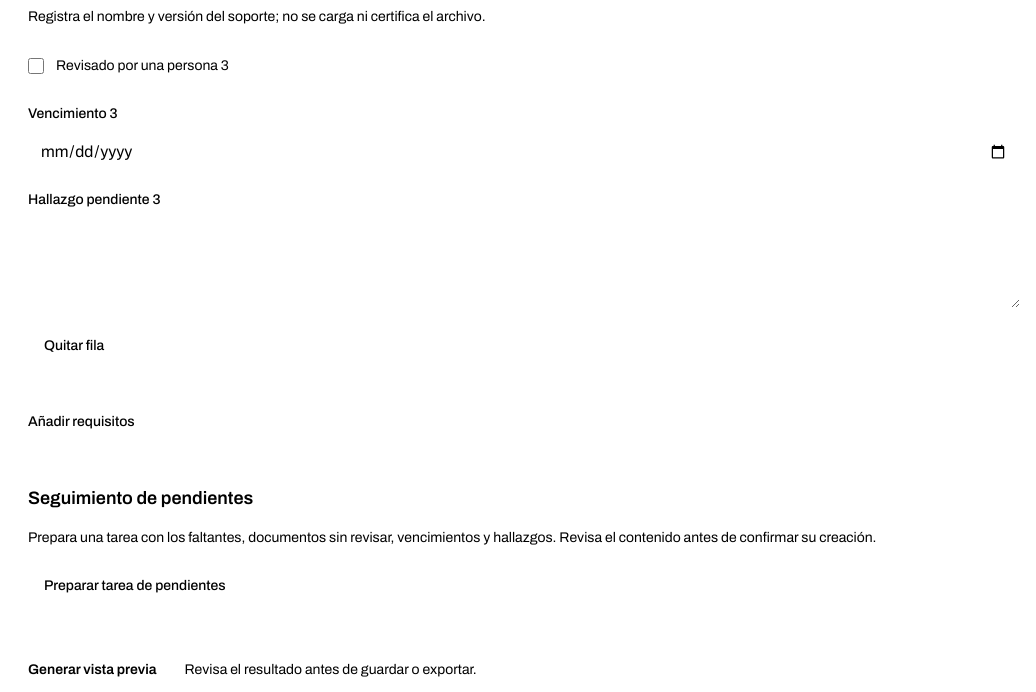
Test: revisor exige confirmación y crea una tarea con vínculos actuales del expediente
(page scrolled)
Click the button "Preparar tarea de pendientes" at (135, 586), box [28,564,242,608]
(page scrolled)
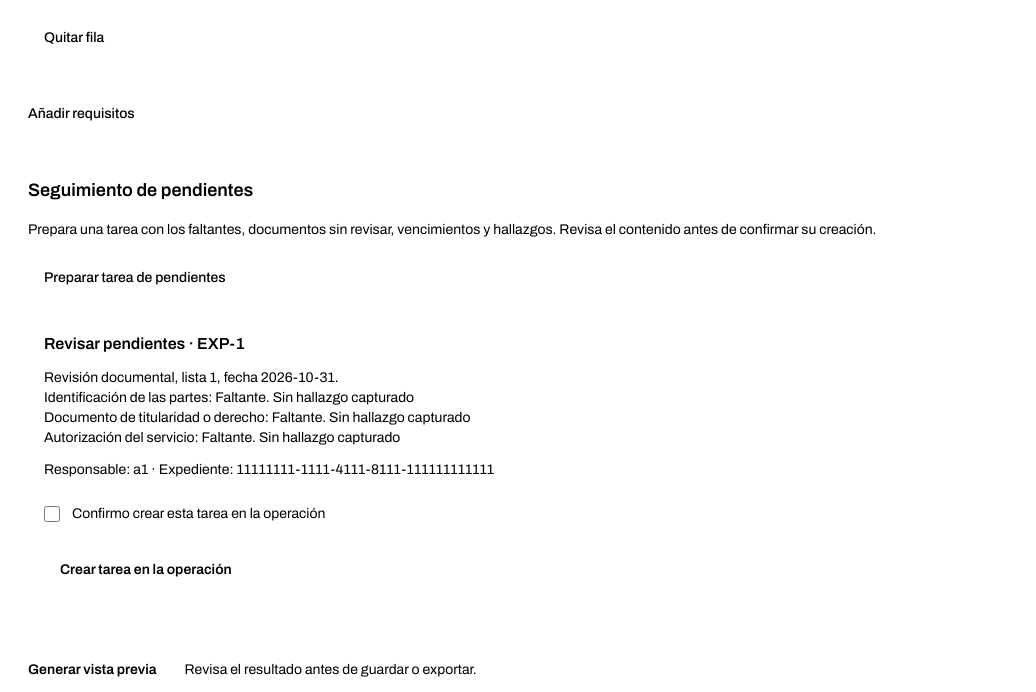
Now the button "Crear tarea en la operación" is disabled, box [44,548,248,592]
Click the checkbox labelled "Confirmo crear esta tarea en la operación" at (52, 514), box [44,506,60,522]
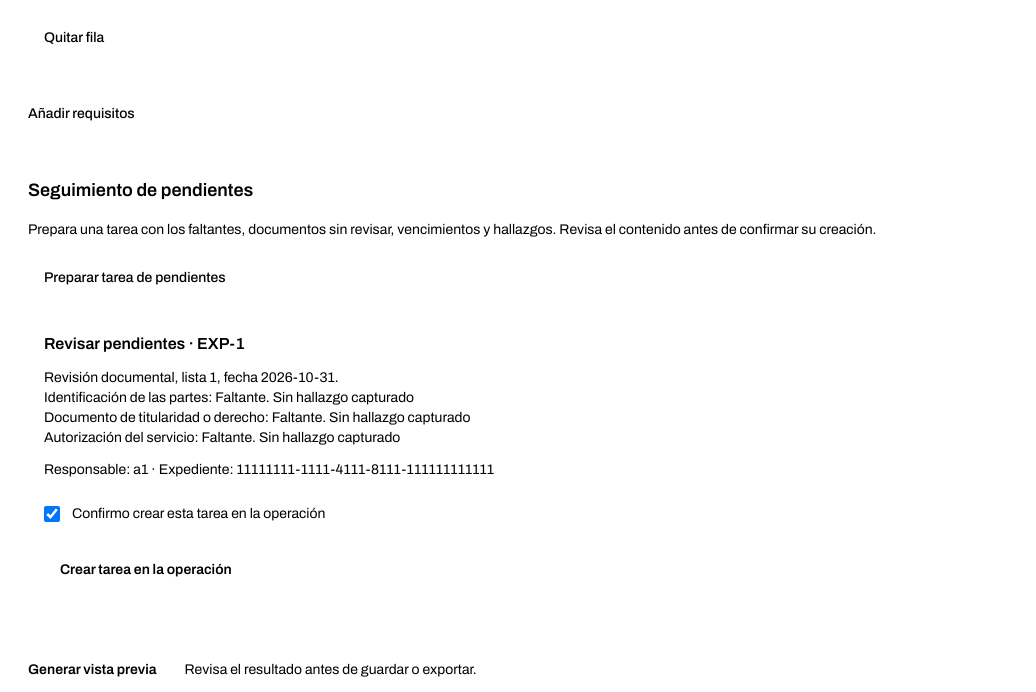
Click the button "Crear tarea en la operación" at (146, 570), box [44,548,248,592]
(page scrolled)
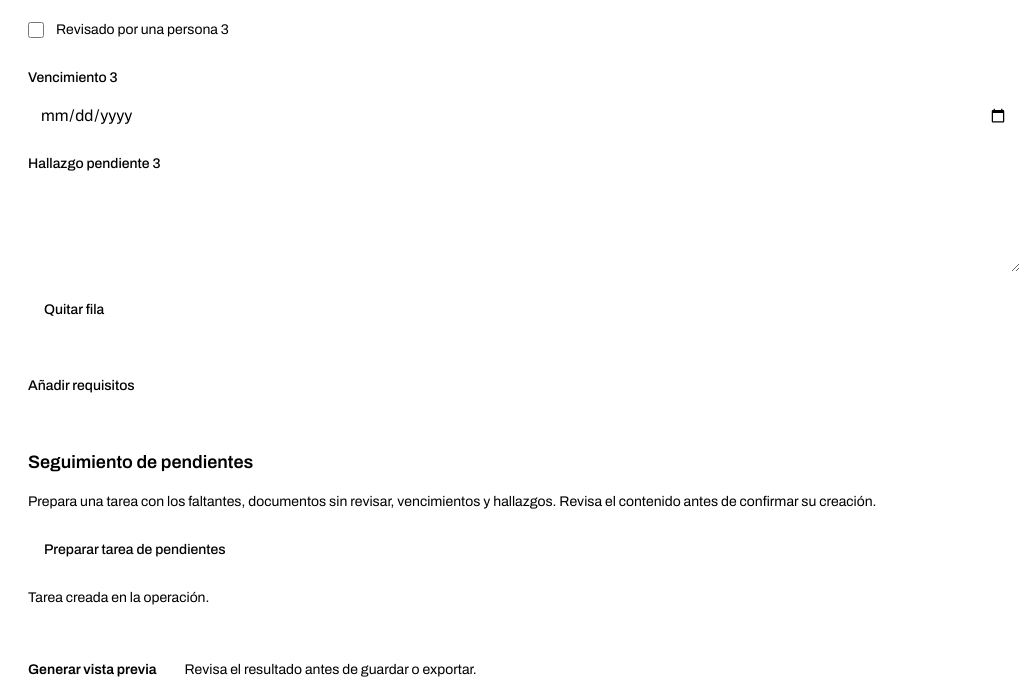
Now the text "Tarea creada en la operación." is shown, box [28,590,209,605]
